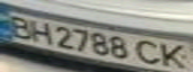2: (51, 22, 75, 51)
7: (69, 26, 93, 54)
8: (90, 29, 112, 57), (109, 34, 130, 61)
B: (3, 12, 36, 39)
C: (133, 37, 163, 67)
H: (24, 18, 57, 46)
K: (157, 42, 193, 71)
